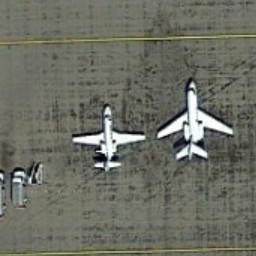Airplane: (151, 71, 240, 165), (65, 96, 149, 176)
